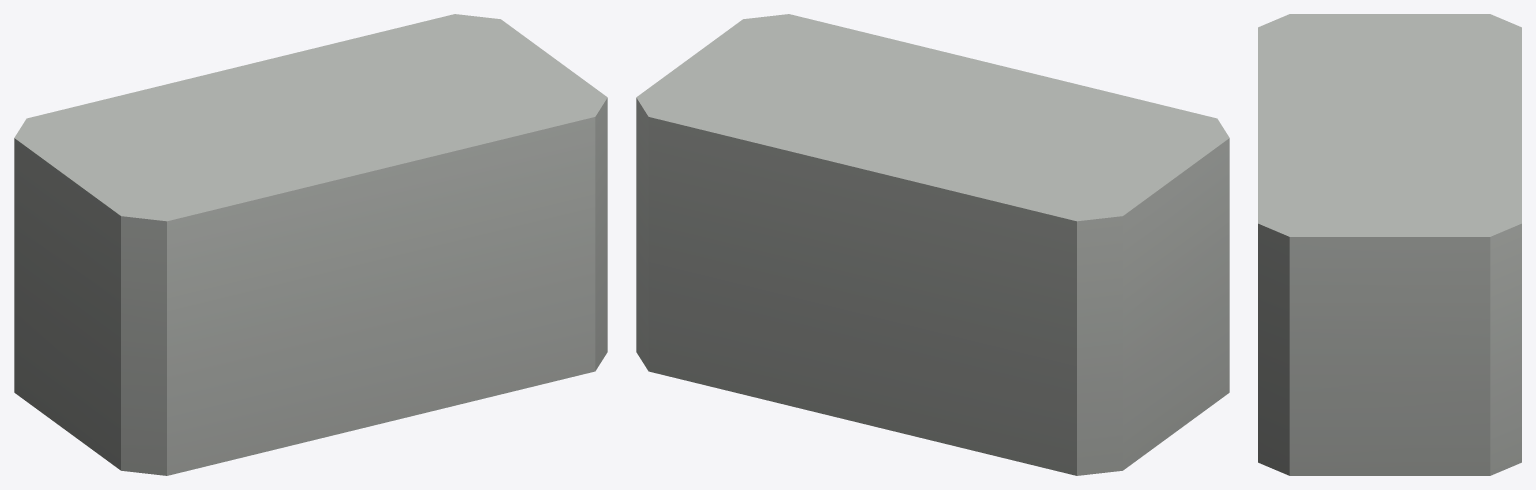
Rendered from Box_1x2_chamfered.fbx.
The picture shows the model from 3 angles, left to right: view 1: azimuth 30°, elevation 25°; view 2: azimuth 150°, elevation 25°; view 3: azimuth 270°, elevation 25°; orthographic projection. The views are drawn at different scales.
Visible parts, largest first — view 1: Box_1x2_chamfered; view 2: Box_1x2_chamfered; view 3: Box_1x2_chamfered.
Boxes of the visible parts, x1,y1,x2,y2 form: Box_1x2_chamfered: [14, 14, 607, 475]; Box_1x2_chamfered: [636, 14, 1229, 475]; Box_1x2_chamfered: [1258, 14, 1521, 475].
Bounding box in the file's own units: 200 × 100 × 100.
